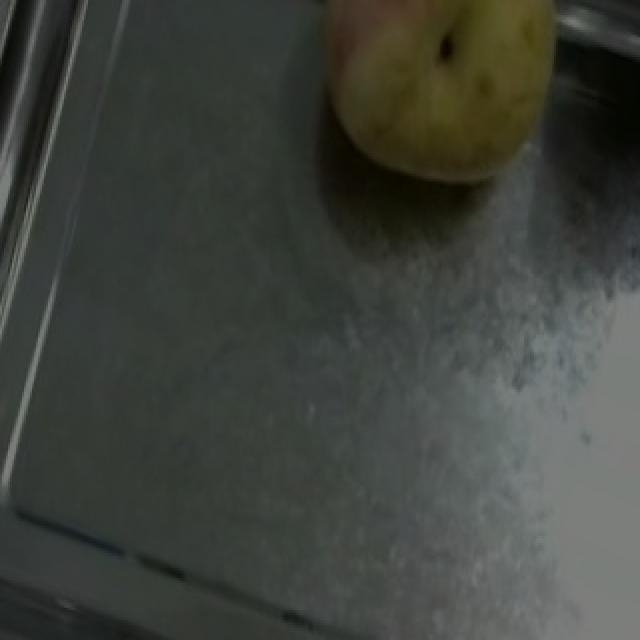Fruit: (278, 0, 584, 216)
